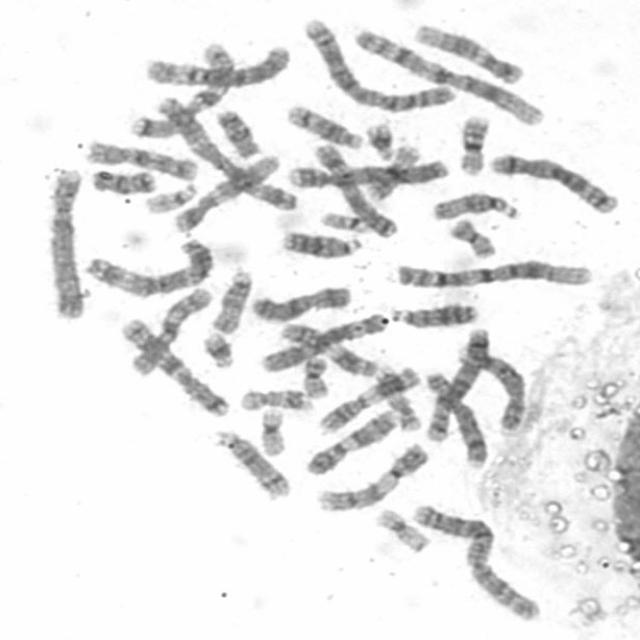A1: (345, 20, 548, 128), (386, 253, 596, 292)
A2: (405, 497, 544, 622), (296, 12, 460, 113)
A3: (149, 88, 301, 213), (78, 231, 217, 299)
B4: (41, 160, 88, 320), (282, 152, 454, 191)
B5: (482, 147, 622, 216), (418, 320, 494, 443)
C10: (123, 280, 215, 378), (78, 134, 201, 182)
C11: (310, 360, 421, 436), (272, 317, 378, 378)
C12: (165, 148, 281, 234), (407, 16, 528, 85)
C6: (253, 306, 389, 375), (136, 38, 293, 89)
C7: (114, 312, 232, 420), (123, 35, 238, 141)
C8: (418, 364, 492, 470), (450, 337, 530, 433)
C9: (308, 437, 432, 513), (299, 403, 401, 476)
D13: (274, 223, 365, 260), (382, 296, 480, 329)
D14: (207, 425, 293, 500), (279, 98, 366, 151)
D15: (203, 264, 254, 336), (424, 185, 523, 222)
E16: (361, 139, 423, 202), (450, 108, 492, 177)
E17: (368, 360, 423, 432), (233, 382, 316, 413)
E18: (208, 102, 262, 160), (84, 162, 160, 196)
F19: (368, 502, 433, 553), (253, 401, 289, 457)
F20: (442, 212, 499, 259), (295, 350, 332, 399)
G21: (196, 326, 237, 370), (359, 116, 398, 162)
G22: (138, 178, 199, 215), (314, 205, 373, 235)
X: (308, 137, 399, 239), (243, 279, 354, 324)
